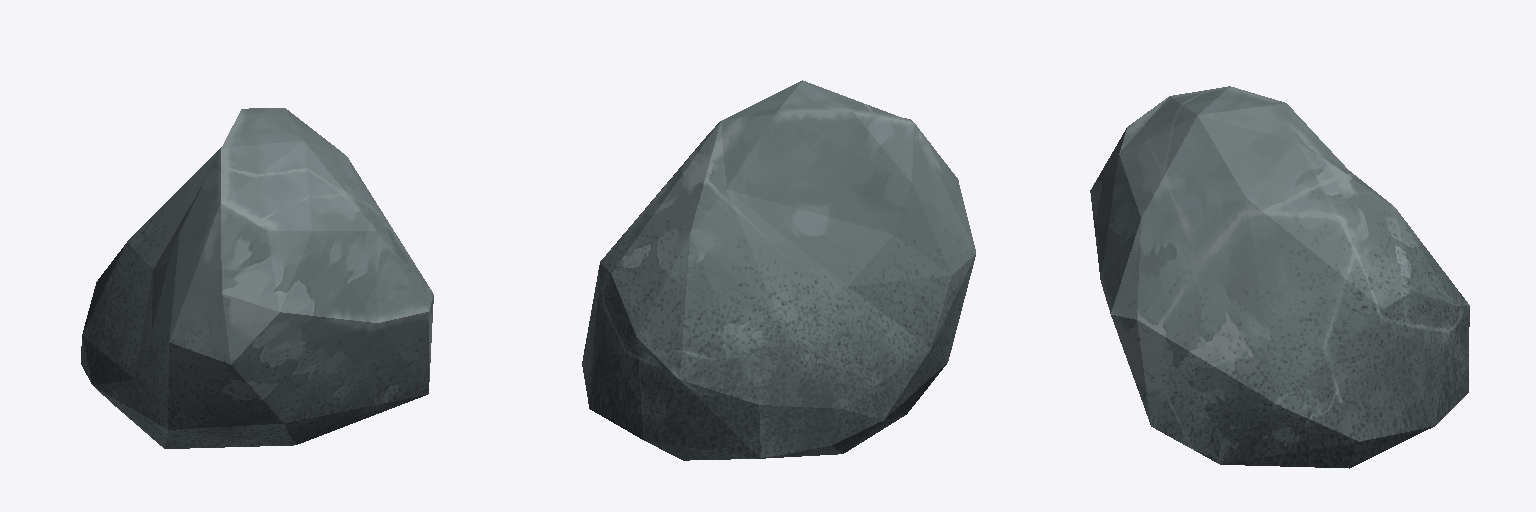
3 views of the same model, side by side, from view 1: azimuth 30°, elevation 25°; view 2: azimuth 150°, elevation 25°; view 3: azimuth 270°, elevation 25° (orthographic).
Visible parts, largest first — view 1: rock.002; view 2: rock.002; view 3: rock.002.
Boxes of the visible parts, <box> form: rock.002: <box>81,108,433,448</box>; rock.002: <box>582,80,975,460</box>; rock.002: <box>1090,86,1469,468</box>.
Size of the model in its own units: 5.9 by 5.64 by 6.57.
1 materials, 1 textured.